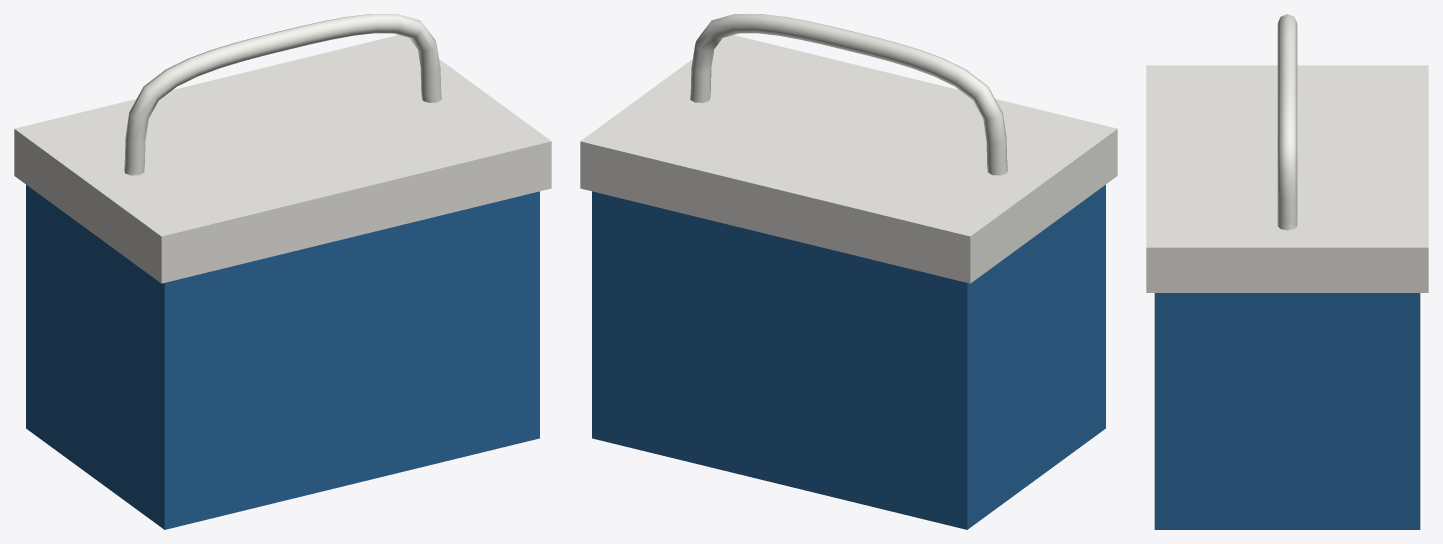
File: p-frigo.glb
The picture shows the model from 3 angles, left to right: view 1: azimuth 30°, elevation 25°; view 2: azimuth 150°, elevation 25°; view 3: azimuth 270°, elevation 25°; orthographic projection. The views are drawn at different scales.
Size of the model in its own units: 0.52 by 0.512 by 0.34.
